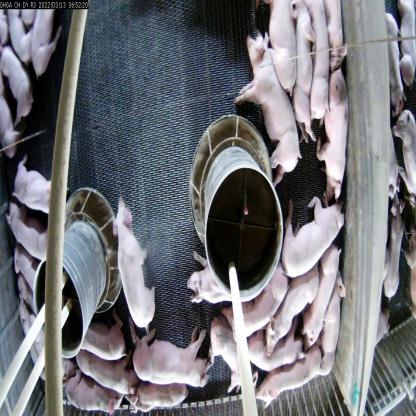Pig: (239, 33, 300, 184), (134, 317, 213, 394), (115, 198, 156, 338), (223, 259, 287, 333), (283, 199, 338, 282), (262, 271, 320, 348), (16, 148, 74, 220), (324, 47, 350, 201), (288, 0, 316, 140), (208, 323, 255, 398), (5, 203, 58, 265), (259, 350, 311, 412), (304, 249, 337, 344), (78, 352, 137, 402), (183, 256, 229, 320), (0, 38, 33, 127), (129, 372, 186, 415), (59, 375, 119, 415), (244, 328, 306, 366), (266, 1, 291, 89), (76, 319, 127, 361), (327, 286, 344, 370)
